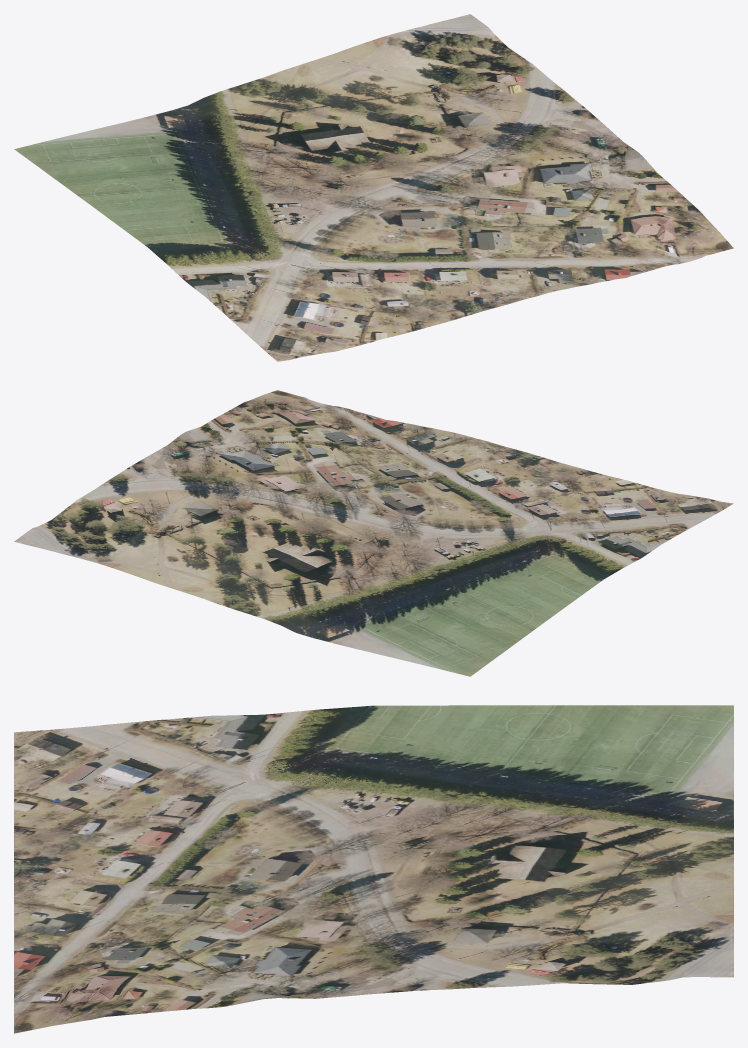
The model's file is CM_Terrain_24491482_6819384.fbx.
The picture shows the model from 3 angles, top to bottom: view 1: azimuth 30°, elevation 25°; view 2: azimuth 150°, elevation 25°; view 3: azimuth 270°, elevation 25°; orthographic projection. The views are drawn at different scales.
Visible parts, largest first — view 1: CM_Terrain_24491482_6819384_LOD0; view 2: CM_Terrain_24491482_6819384_LOD0; view 3: CM_Terrain_24491482_6819384_LOD0.
Boxes of the visible parts, x1,y1,x2,y2 form: CM_Terrain_24491482_6819384_LOD0: [14, 14, 733, 361]; CM_Terrain_24491482_6819384_LOD0: [14, 390, 733, 676]; CM_Terrain_24491482_6819384_LOD0: [14, 705, 733, 1033].
Size of what is drawn, in the model's own units: 205 by 20.38 by 205.
